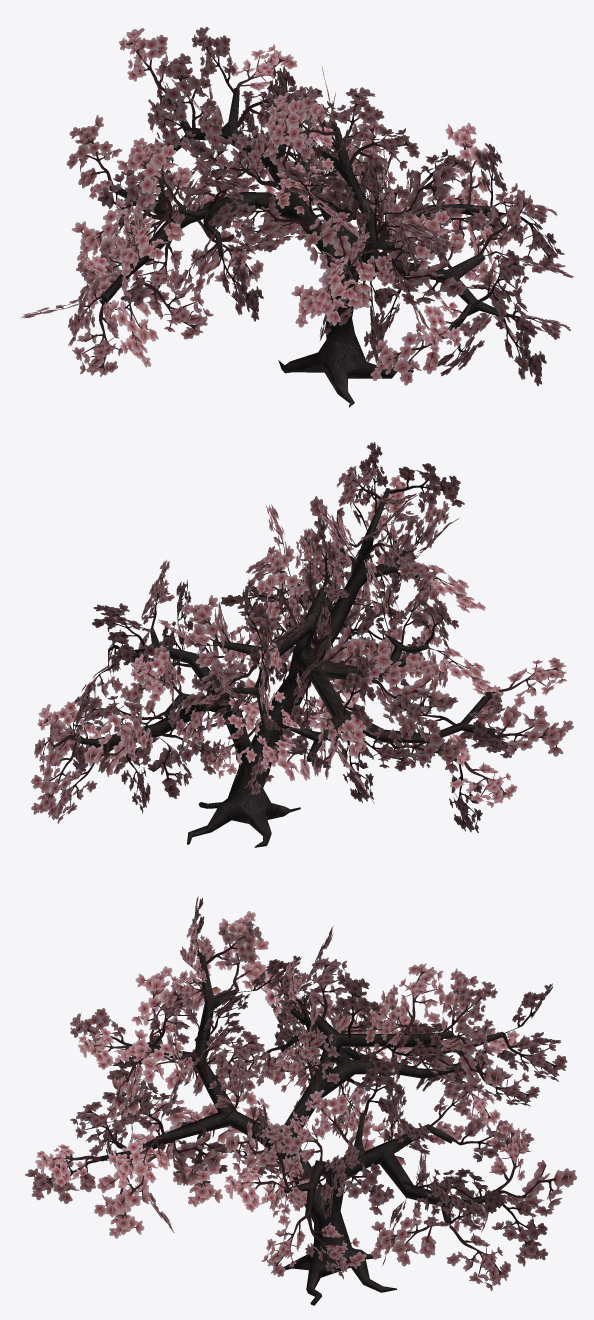
The model's file is sakura.glb.
The picture shows the model from 3 angles, top to bottom: view 1: azimuth 30°, elevation 25°; view 2: azimuth 150°, elevation 25°; view 3: azimuth 270°, elevation 25°; orthographic projection. The views are drawn at different scales.
Visible parts, largest first — view 1: LEAVES, SAKURA_TREE; view 2: LEAVES, SAKURA_TREE; view 3: LEAVES, SAKURA_TREE.
Boxes of the visible parts, left/top/right/bottom form: LEAVES: left=21, top=27, right=573, bottom=386; SAKURA_TREE: left=99, top=88, right=504, bottom=407; LEAVES: left=31, top=442, right=573, bottom=833; SAKURA_TREE: left=80, top=488, right=494, bottom=847; LEAVES: left=25, top=896, right=576, bottom=1291; SAKURA_TREE: left=100, top=952, right=502, bottom=1305.
Size of the model in its own units: 7.73 by 5.49 by 8.3.
2 materials, 2 textured.
